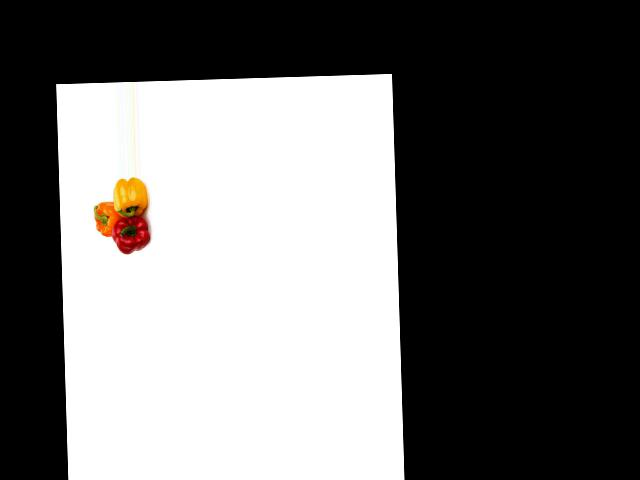bell_pepper: (111, 176, 151, 215)
